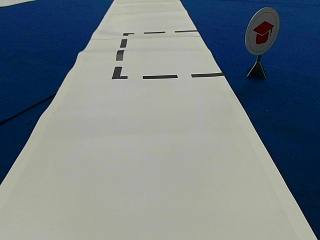school: (244, 8, 279, 55)
